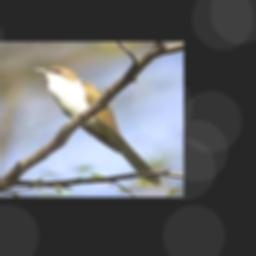Cuckoo: (31, 66, 162, 184)
